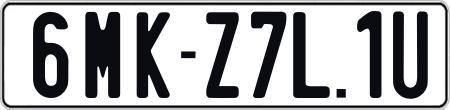1: (357, 11, 387, 102)
6: (31, 9, 68, 101)
7: (248, 11, 284, 98)
K: (136, 9, 173, 98)
L: (292, 9, 335, 99)
M: (84, 12, 120, 101)
U: (392, 10, 428, 103)
Z: (203, 12, 241, 103)
